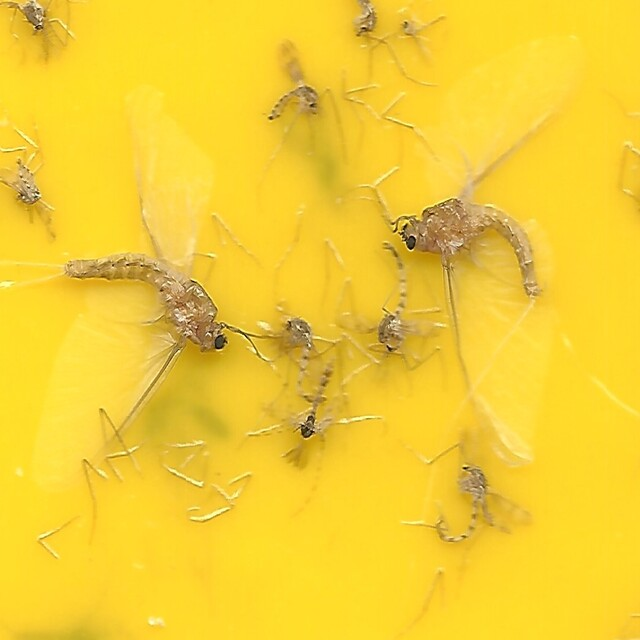Ephemeroptera: (397, 75, 579, 464), (61, 126, 230, 460)
Nematocera: (434, 461, 535, 565), (371, 241, 421, 361), (291, 351, 343, 453), (282, 310, 319, 414), (263, 77, 327, 133)
